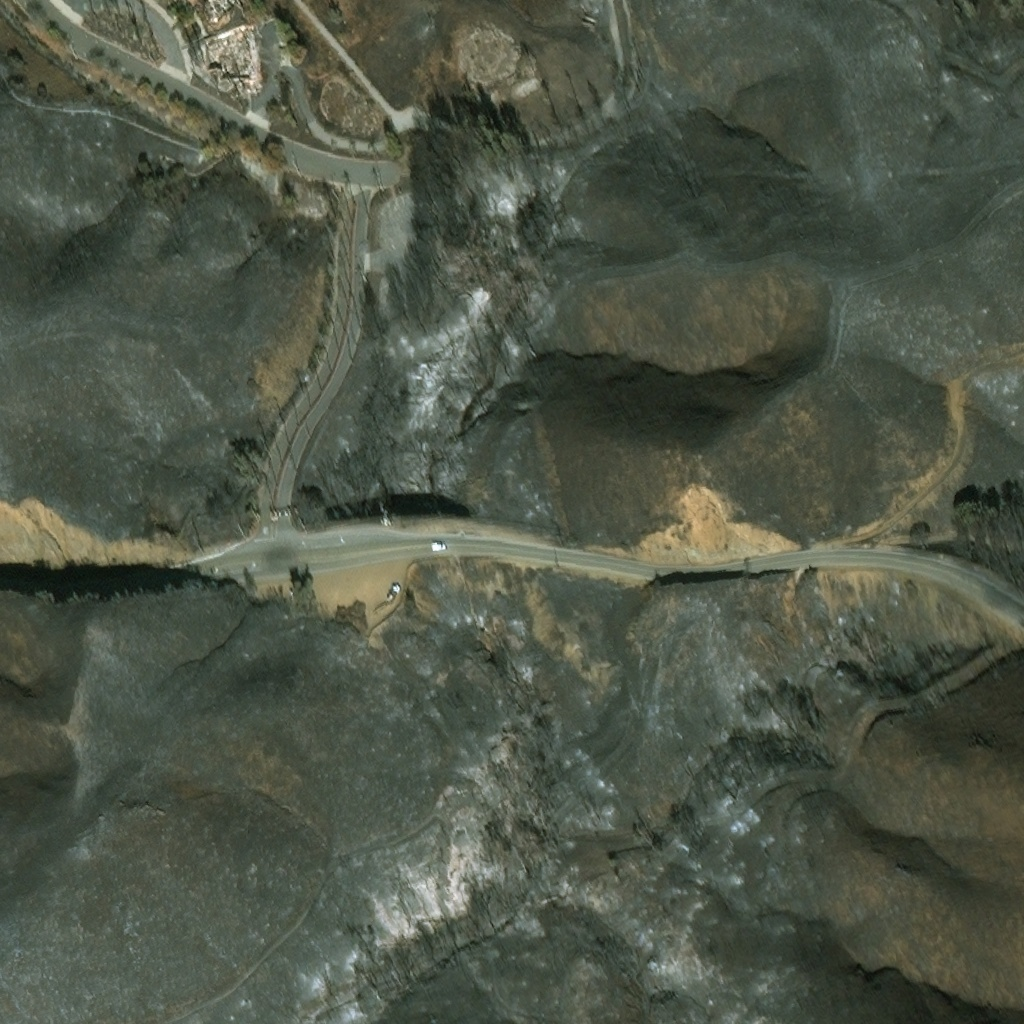3 destroyed: (202, 24, 256, 83), (198, 19, 247, 40), (204, 2, 234, 29), (213, 11, 246, 30), (190, 0, 210, 21), (203, 0, 232, 14), (228, 0, 246, 19), (255, 70, 262, 83)
